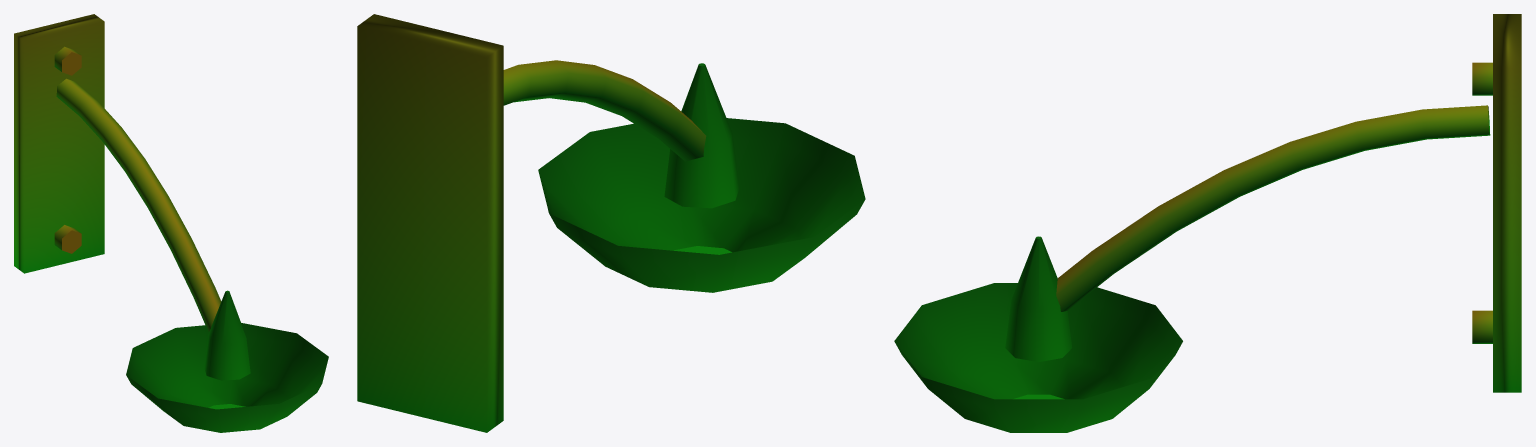
File: wall_lamp.glb
3 renders of one model, left to right at view 1: azimuth 30°, elevation 25°; view 2: azimuth 150°, elevation 25°; view 3: azimuth 270°, elevation 25°, orthographic. The views are drawn at different scales.
Parts seen in each view (by area): view 1: wall_lamp; view 2: wall_lamp; view 3: wall_lamp.
Part boxes in pixels (x1=…): wall_lamp: x1=14, y1=14, x2=328, y2=432; wall_lamp: x1=357, y1=14, x2=865, y2=432; wall_lamp: x1=894, y1=14, x2=1521, y2=432.
Size of what is drawn, in the model's own units: 0.1807 by 0.2675 by 0.4125.
